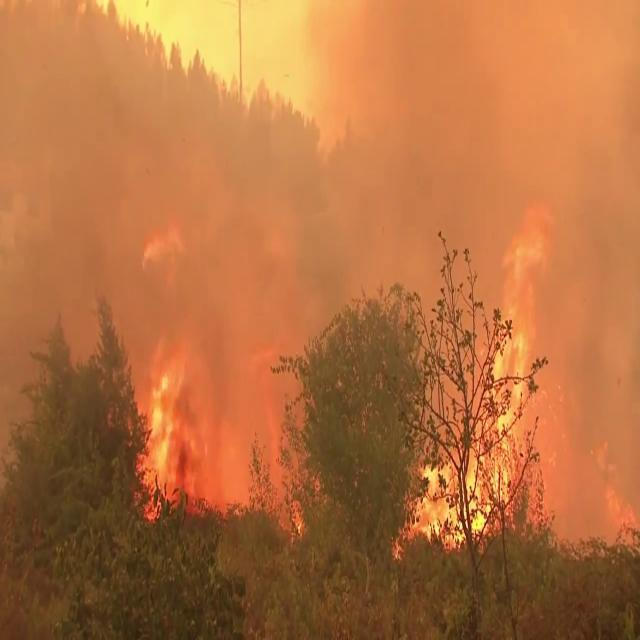Fire: (396, 202, 578, 554), (130, 320, 314, 526)
Smoke: (291, 2, 640, 588), (0, 1, 323, 388)
